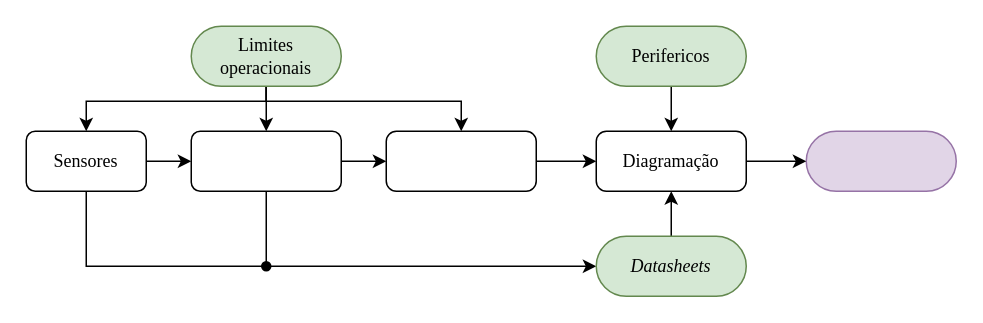
The diagram is 983 pixels wide and 323 high, and some of its shapes have lost their labels. The centre of each missing label's shape, as x and y in pixels:
"Alimentação" goes at (460,160).
"Hardware Final" goes at (880,160).
"Microcontrolador" goes at (265,160).
